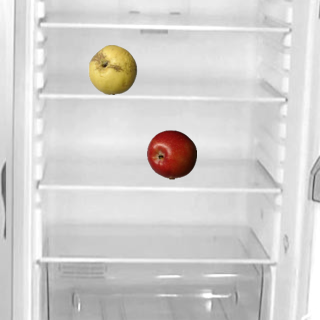Apple Braeburn: (146, 129, 196, 179)
Apple Golden 1: (87, 44, 137, 94)
